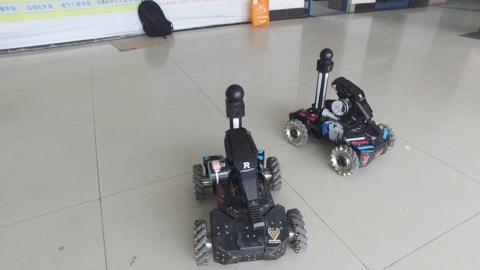chariot: (183, 80, 312, 267), (282, 41, 401, 180)
